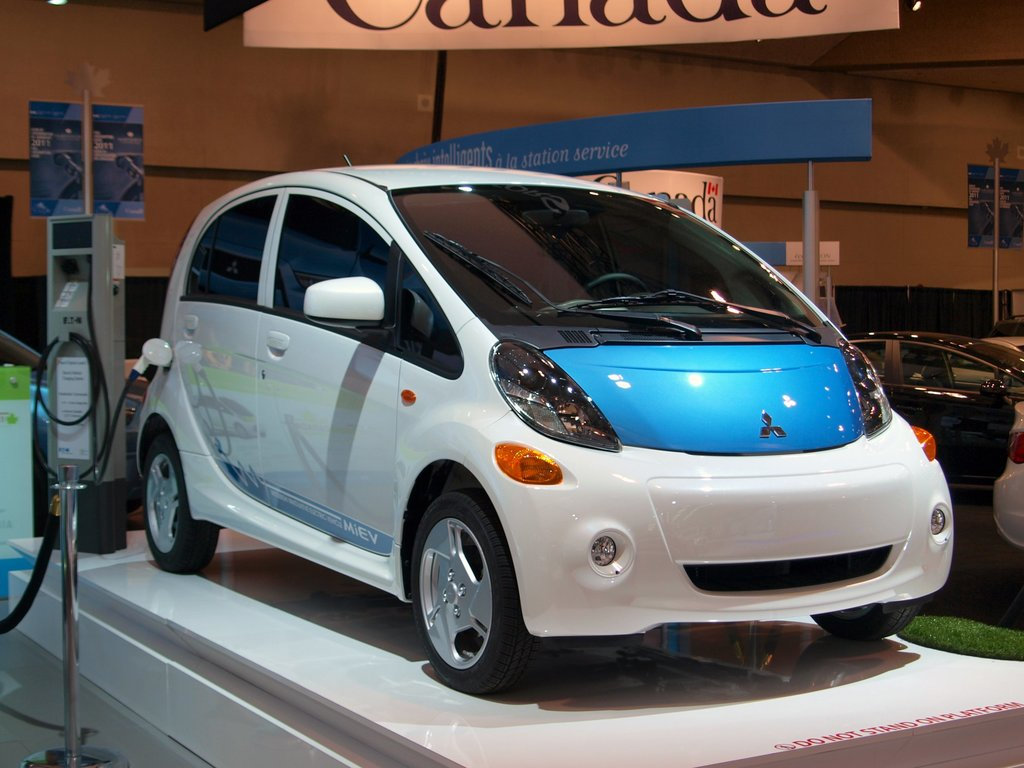Car: (131, 147, 956, 710), (848, 322, 1023, 477)
